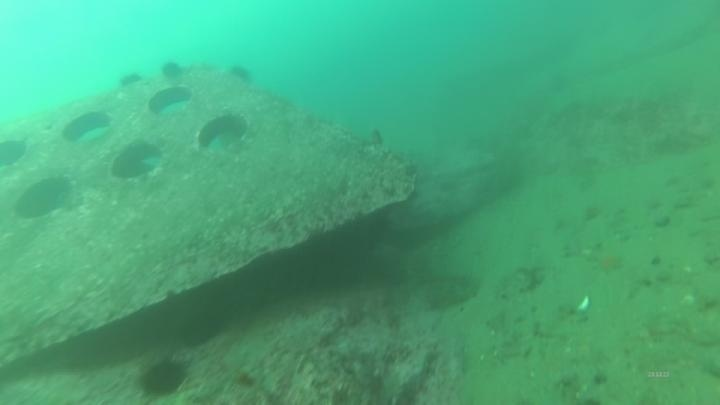echinus: (135, 354, 191, 400), (227, 62, 256, 88), (158, 55, 187, 81), (118, 64, 147, 90)
starfish: (590, 247, 627, 276)
